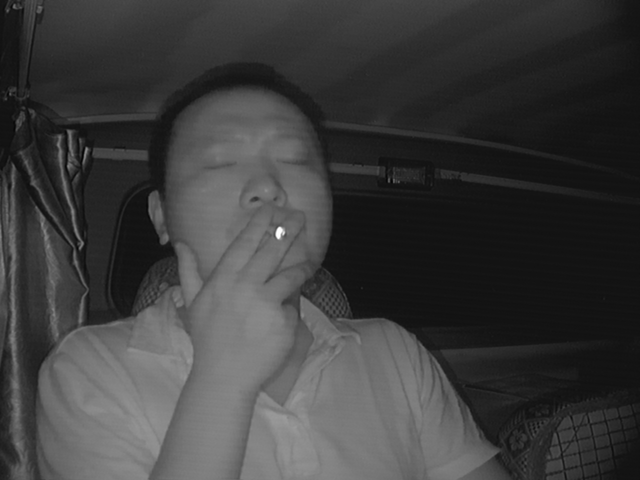hand: (225, 208, 311, 313)
